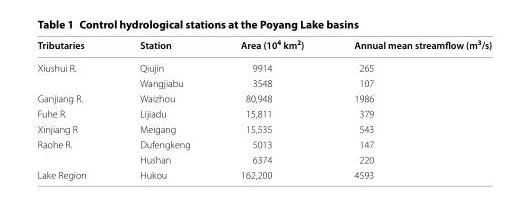table: (36, 36, 491, 180)
table column: (328, 36, 491, 180), (214, 36, 328, 180), (112, 36, 214, 180), (36, 36, 112, 180)
table column header: (36, 36, 491, 56)
table row: (36, 36, 491, 56), (36, 56, 491, 75), (36, 105, 491, 121), (36, 75, 491, 90), (36, 90, 491, 105), (36, 121, 491, 136), (36, 136, 491, 151), (36, 151, 491, 166), (36, 166, 491, 180)
table spanning cell: (36, 56, 112, 90), (36, 136, 112, 166)
